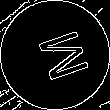M_W: (23, 25, 87, 85)
